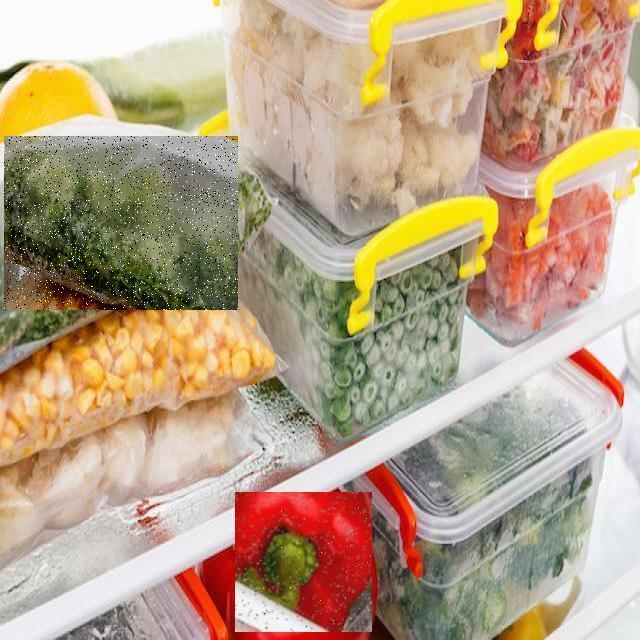Broccoli: (4, 136, 238, 310)
Red bell pepper: (235, 492, 372, 632)
